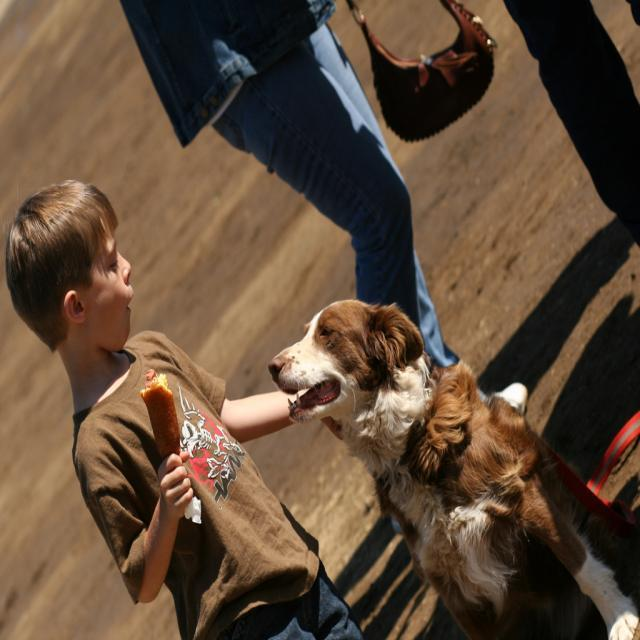Hot dog: (139, 366, 176, 460)
